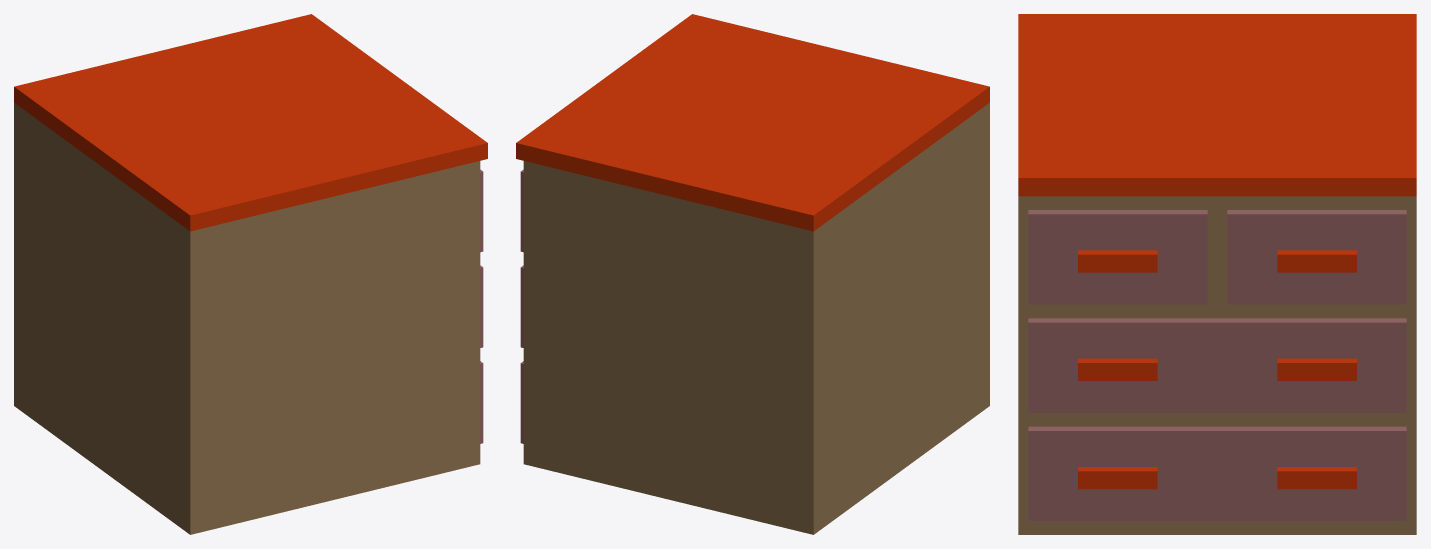
The model's file is drawer.obj.
3 views of the same model, side by side, from view 1: azimuth 30°, elevation 25°; view 2: azimuth 150°, elevation 25°; view 3: azimuth 270°, elevation 25° (orthographic). The views are drawn at different scales.
Visible parts, largest first — view 1: drawer; view 2: drawer; view 3: drawer.
Boxes of the visible parts, bbox=[...] form: drawer: bbox=[14, 14, 487, 534]; drawer: bbox=[516, 14, 989, 534]; drawer: bbox=[1018, 14, 1416, 534].
Size of the model in its own units: 40 by 40 by 40.
1 material, 1 textured.
